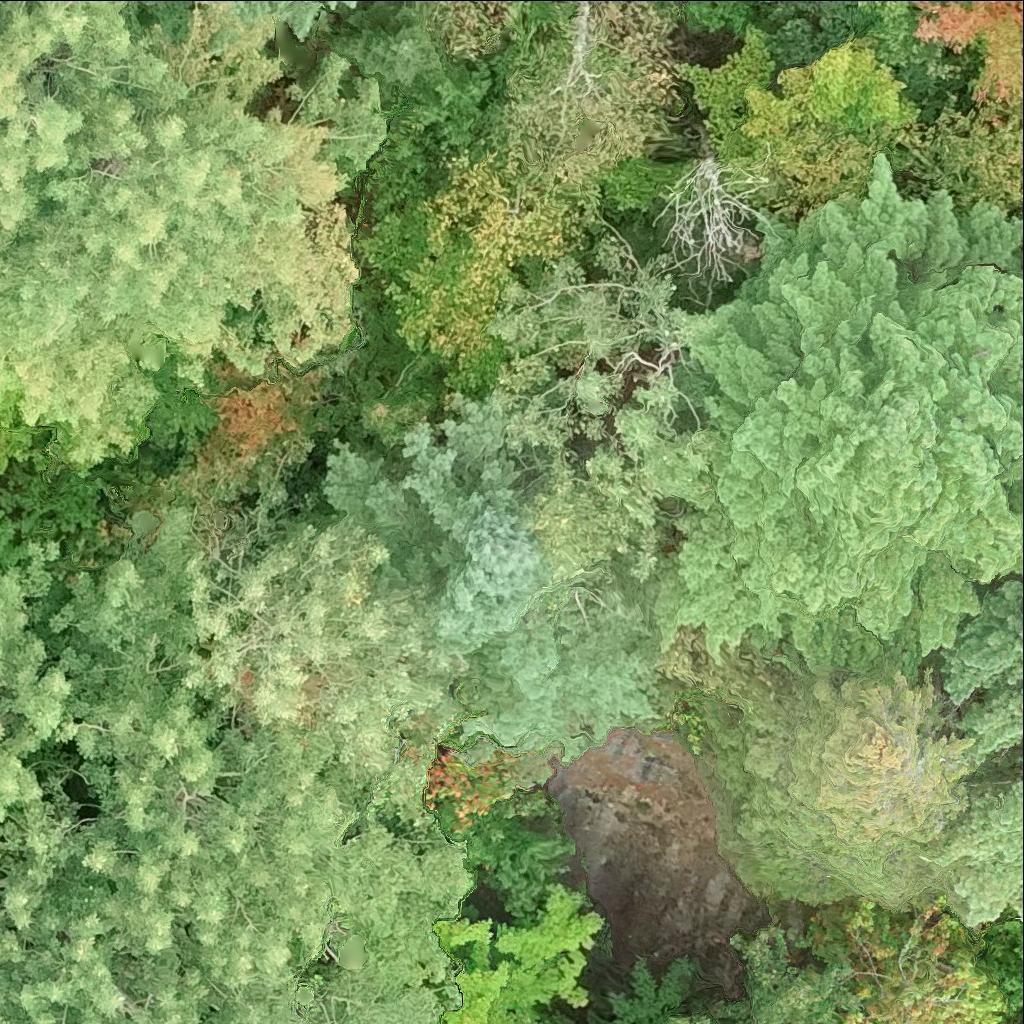crown: (0, 507, 470, 1023), (654, 153, 1023, 664), (0, 57, 383, 464), (323, 398, 673, 765), (487, 236, 721, 622), (693, 670, 978, 907), (594, 25, 918, 206), (357, 150, 585, 407), (428, 0, 683, 227), (0, 0, 179, 279), (801, 896, 1009, 1023), (609, 925, 858, 1023), (185, 350, 326, 491), (929, 764, 1023, 922), (652, 139, 757, 280), (947, 579, 1023, 754), (922, 0, 1023, 119), (860, 0, 975, 78), (0, 393, 76, 476), (661, 0, 753, 35), (0, 510, 40, 568)
